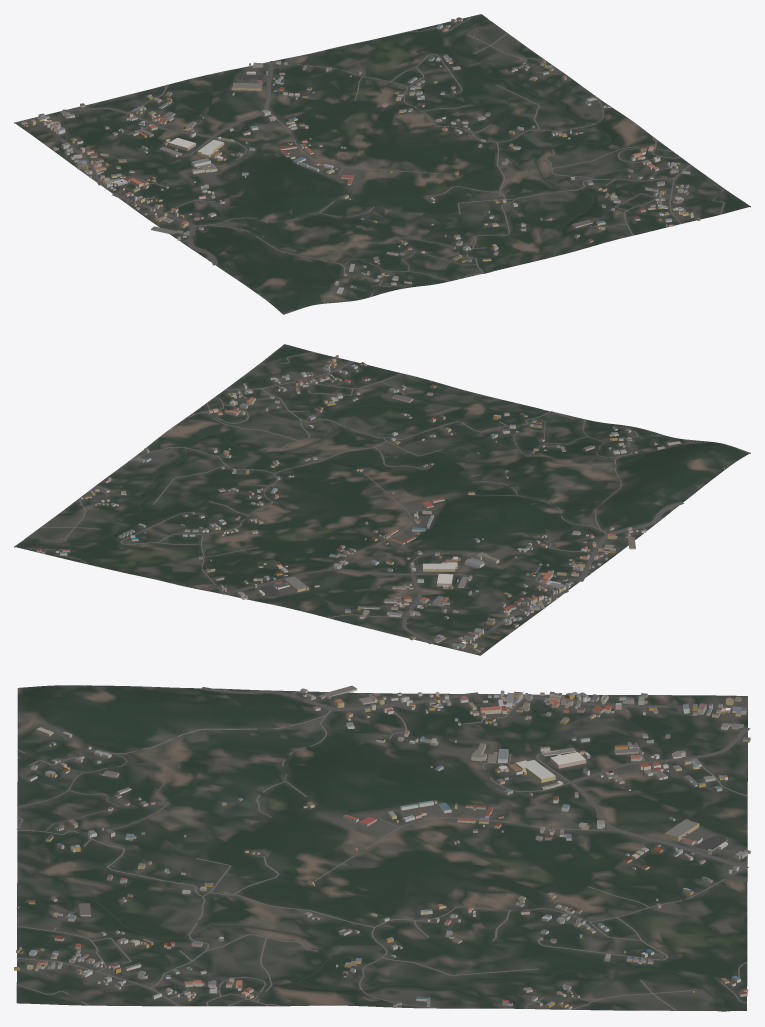
3 views of the same model, one above another, from view 1: azimuth 30°, elevation 25°; view 2: azimuth 150°, elevation 25°; view 3: azimuth 270°, elevation 25° (orthographic). The views are drawn at different scales.
Parts seen in each view (by area): view 1: ground, buildings, roads, water; view 2: ground, buildings, roads, water; view 3: ground, buildings, roads, water.
Boxes of the visible parts, x1,y1,x2,y2 form: ground: (14, 14, 750, 314); buildings: (21, 17, 700, 294); roads: (30, 17, 724, 297); water: (449, 20, 611, 272); ground: (14, 344, 750, 655); buildings: (36, 355, 680, 652); roads: (26, 352, 725, 651); water: (22, 400, 547, 543); ground: (16, 685, 747, 1011); buildings: (14, 685, 750, 1008); roads: (16, 685, 750, 1010); water: (17, 832, 724, 1011).
Size of the model in its own units: 1429 by 52.9 by 1415.
